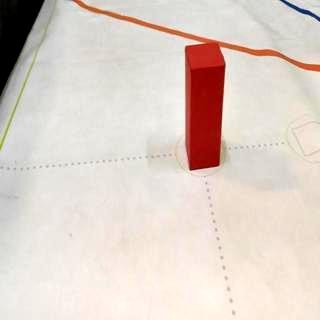redbox: (184, 41, 227, 172)
